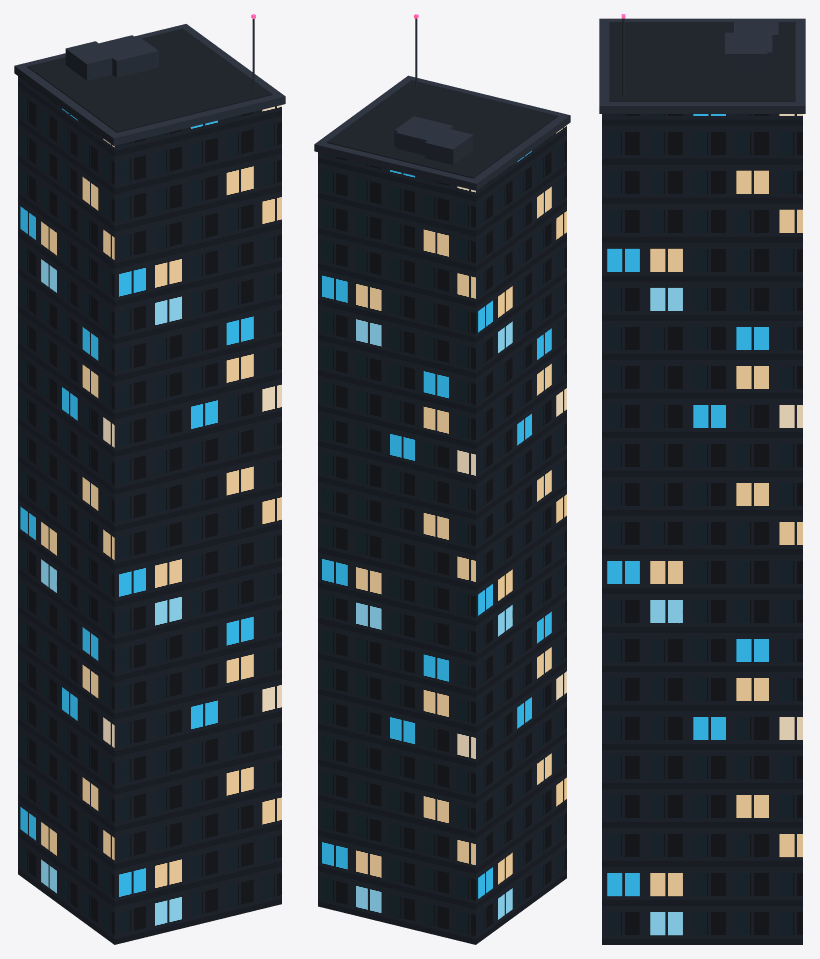
The model's file is building_c.glb.
3 views of the same model, side by side, from view 1: azimuth 30°, elevation 25°; view 2: azimuth 150°, elevation 25°; view 3: azimuth 270°, elevation 25° (orthographic). The views are drawn at different scales.
Parts seen in each view (by area): view 1: building; view 2: building; view 3: building.
Boxes of the visible parts, bbox=[...] form: building: bbox=[14, 14, 285, 944]; building: bbox=[314, 14, 570, 944]; building: bbox=[599, 14, 805, 944].
Size of the model in its own units: 14.4 by 70.82 by 14.4.
Materials: 4 (1 with a texture image).
